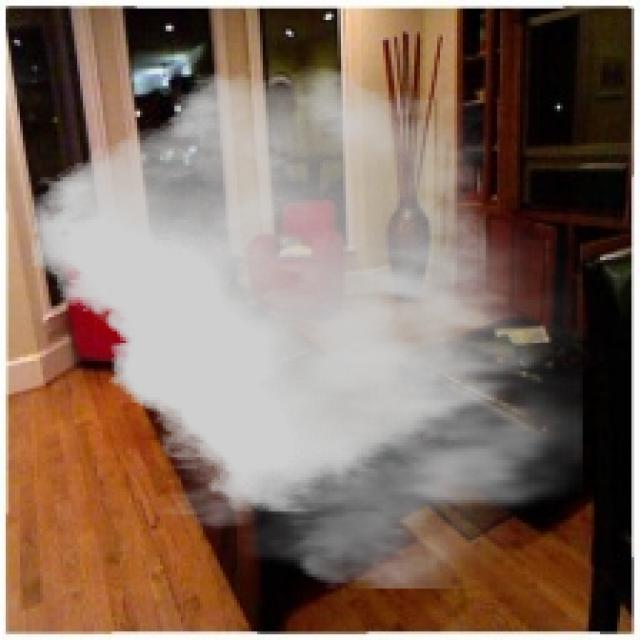Smoke: (31, 66, 583, 588)
